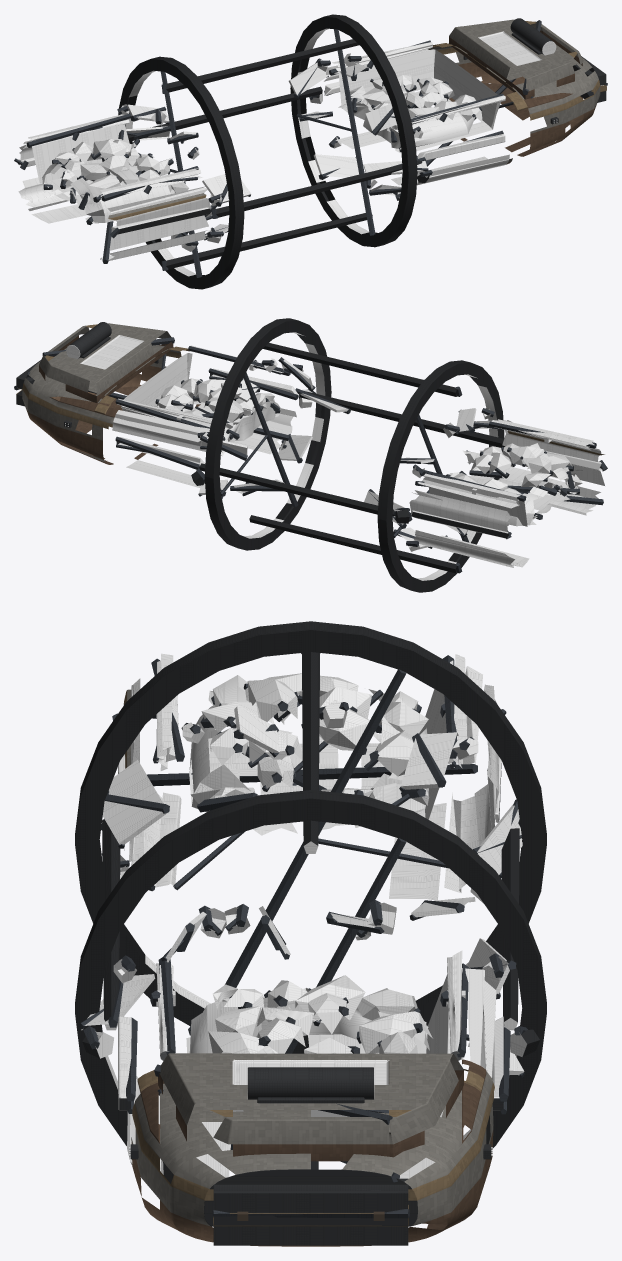
File: wreck_ore_freighter_bow__stripped.glb
The picture shows the model from 3 angles, top to bottom: view 1: azimuth 30°, elevation 25°; view 2: azimuth 150°, elevation 25°; view 3: azimuth 270°, elevation 25°; orthographic projection. The views are drawn at different scales.
Visible parts, largest first — view 1: Hull.001, Hull, GapRing1, GapRing0, Forecastle, H2Heap, H0Heap.001, GapChord3, GapChord2, GapChord1, GapChord0, GapRing1_xrib49a (+19 smaller); view 2: Hull.001, GapRing1, Hull, GapRing0, Forecastle, H2Heap, GapChord3, GapChord2, GapChord0, GapChord1, H0Heap.001, Windlass (+13 smaller); view 3: Hull.001, GapRing0, GapRing1, Forecastle, BowFender, Hull, H2Heap, Windlass, GapRing0_xrib48a, GapChord2, H0Heap.001, woundFore_t_tear3 (+29 smaller).
Part boxes in pixels (<box>): Hull.001: <box>324,43,600,185</box>; Hull: <box>18,122,211,261</box>; GapRing1: <box>290,14,417,247</box>; GapRing0: <box>118,56,244,289</box>; Forecastle: <box>449,19,583,99</box>; H2Heap: <box>40,150,174,223</box>; H0Heap.001: <box>338,89,475,149</box>; GapChord3: <box>161,213,372,269</box>; GapChord2: <box>161,39,359,92</box>; GapChord1: <box>211,160,422,217</box>; GapChord0: <box>127,86,322,141</box>; GapRing1_xrib49a: <box>334,29,375,235</box>; Hull.001: <box>22,344,296,487</box>; GapRing1: <box>204,318,331,550</box>; Hull: <box>409,430,604,567</box>; GapRing0: <box>377,360,504,592</box>; Forecastle: <box>39,323,173,402</box>; H2Heap: <box>467,452,582,526</box>; GapChord3: <box>249,515,457,573</box>; GapChord2: <box>263,343,457,396</box>; GapChord0: <box>199,463,394,515</box>; GapChord1: <box>299,391,504,447</box>; H0Heap.001: <box>179,390,281,456</box>; Windlass: <box>66,322,111,359</box>; Hull.001: <box>127,968,496,1246</box>; GapRing0: <box>75,621,546,1053</box>; GapRing1: <box>75,790,546,1183</box>; Forecastle: <box>158,1053,463,1161</box>; BowFender: <box>213,1178,408,1245</box>; Hull: <box>123,666,499,900</box>; H2Heap: <box>189,689,428,835</box>; Windlass: <box>247,1067,374,1099</box>; GapRing0_xrib48a: <box>225,669,406,987</box>; GapChord2: <box>301,652,320,853</box>; H0Heap.001: <box>189,997,429,1053</box>; woundFore_t_tear3: <box>102,760,167,844</box>.
Bounding box in the file's own units: 179 × 69.87 × 69.87.
Materials: 15 (14 with a texture image).
